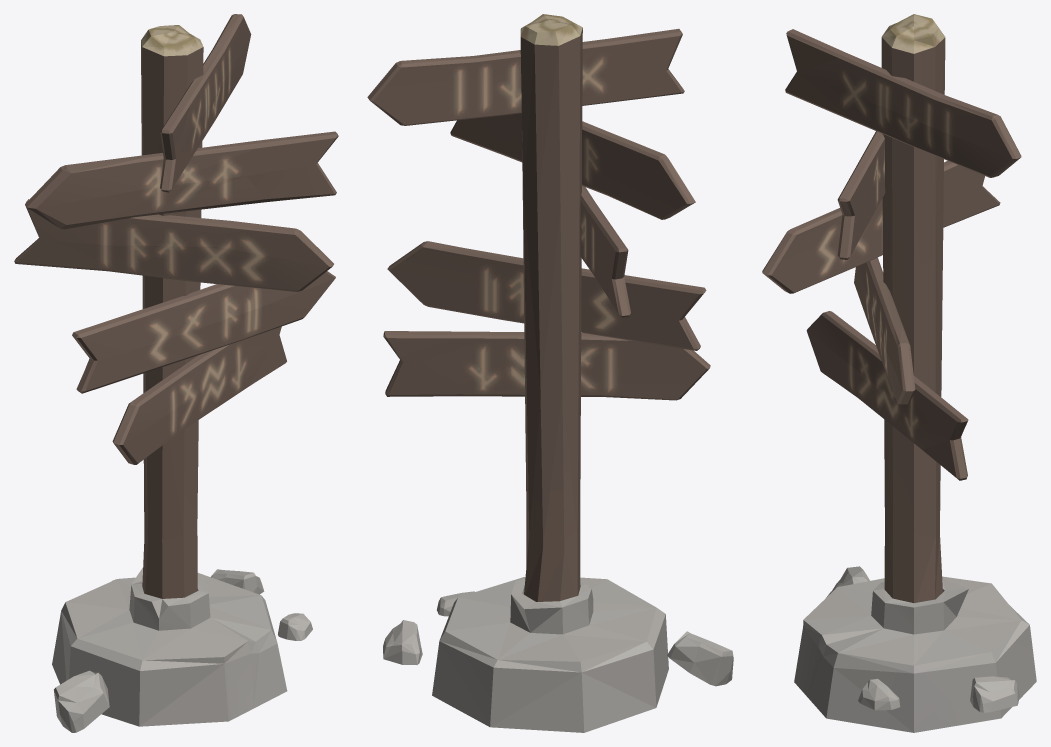
The model's file is signPost.fbx.
3 views of the same model, side by side, from view 1: azimuth 30°, elevation 25°; view 2: azimuth 150°, elevation 25°; view 3: azimuth 270°, elevation 25° (orthographic). The views are drawn at different scales.
Visible parts, largest first — view 1: signPost; view 2: signPost; view 3: signPost.
Part boxes in pixels (x1,y1,x2,y2): signPost: (14,14,338,732); signPost: (367,14,733,732); signPost: (762,14,1036,732).
Bounding box in the file's own units: 2.17 × 4.38 × 1.65.
